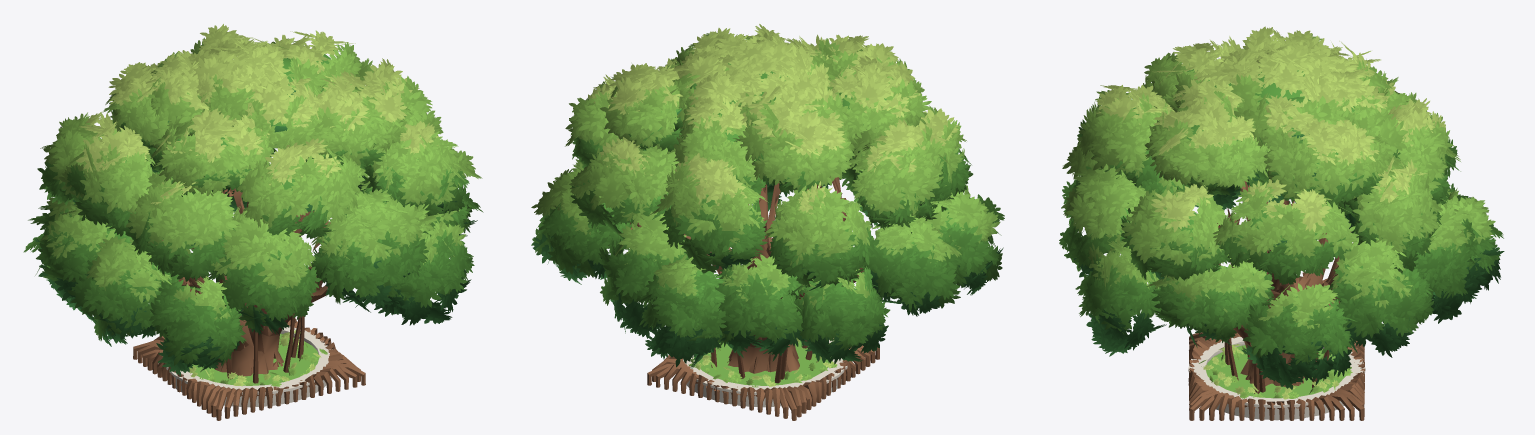
Rendered from tree_banyan.glb.
3 views of the same model, side by side, from view 1: azimuth 30°, elevation 25°; view 2: azimuth 150°, elevation 25°; view 3: azimuth 270°, elevation 25° (orthographic).
Parts seen in each view (by area): view 1: canopy, body; view 2: canopy, body; view 3: canopy, body.
Part boxes in pixels (x1,y1,x2,y2): canopy: (23, 24, 483, 376); body: (133, 188, 365, 420); canopy: (531, 24, 1004, 368); body: (608, 177, 879, 420); canopy: (1059, 26, 1504, 389); body: (1188, 181, 1365, 420).
Bounding box in the file's own units: 14.32 × 10.79 × 13.45.
3 materials, 1 textured.
